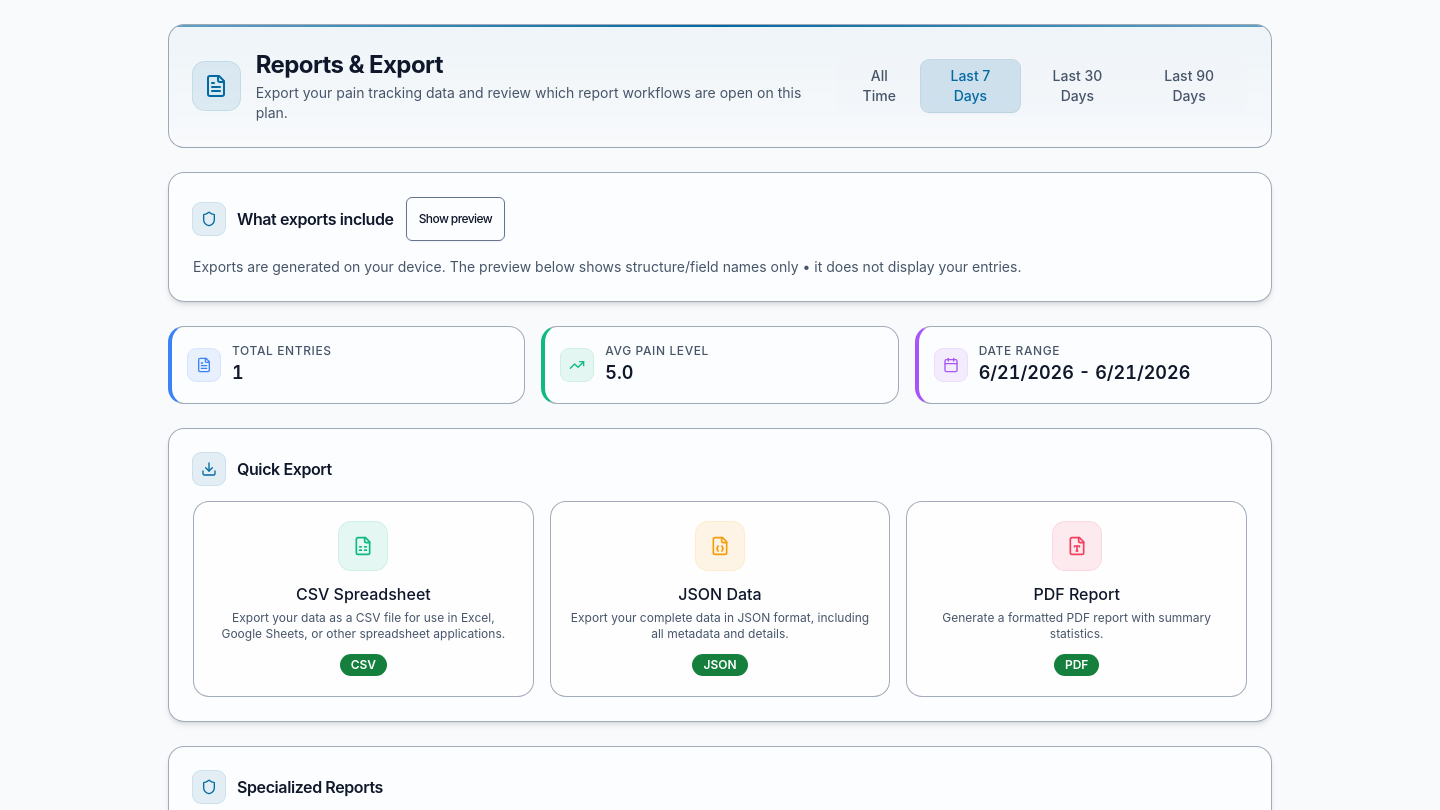
Scenario: ReportsPage › filters entries by date range
Default is last 7 days — click "All Time" to see both entries
Click the button "All Time".
click(879, 86)  # box [841,60,917,112]
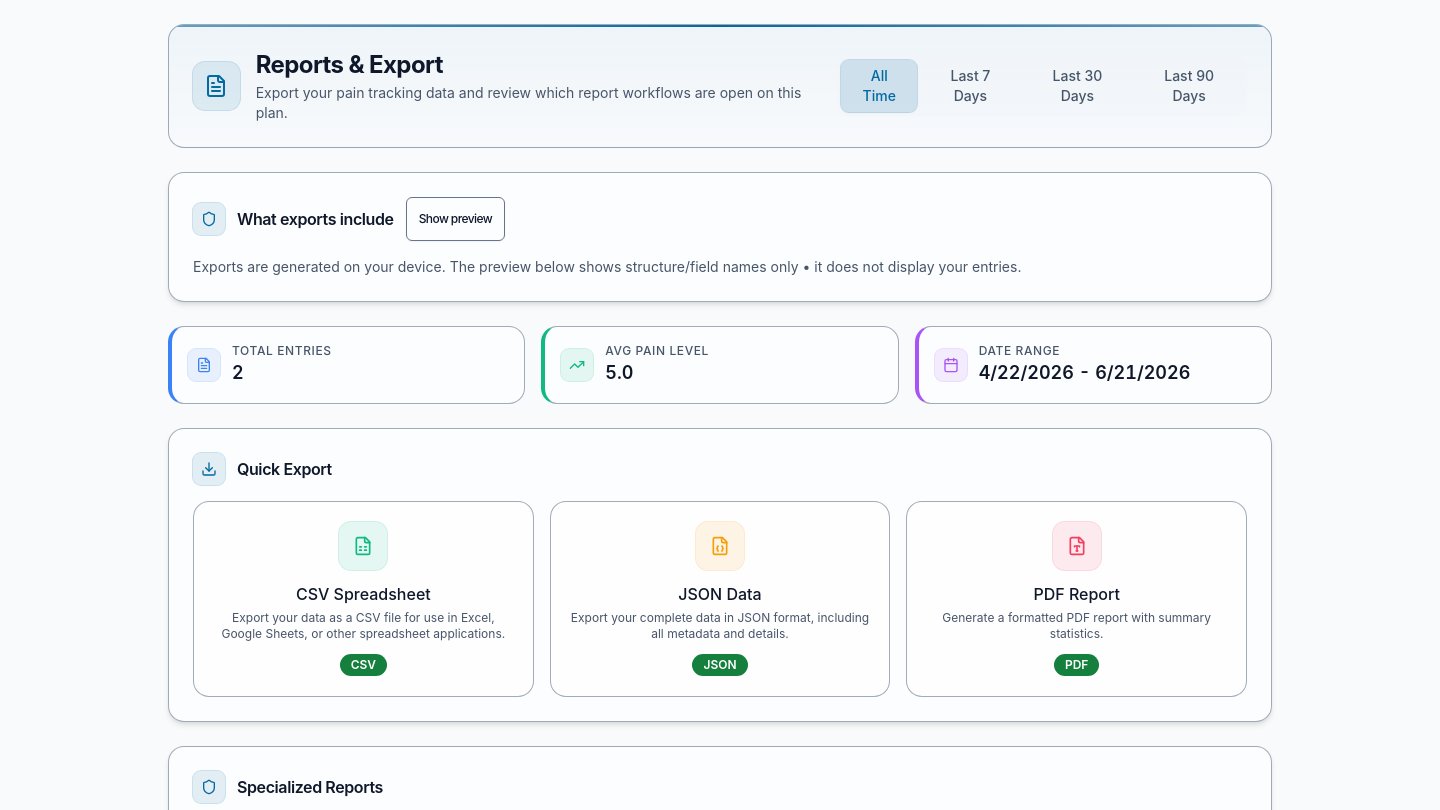
Expected: the text "2" is shown, [232,362,244,383]
Click "Last 30 Days" — only recent entry
Click the button "Last 30 Days".
click(1077, 86)  # box [1024,60,1131,112]
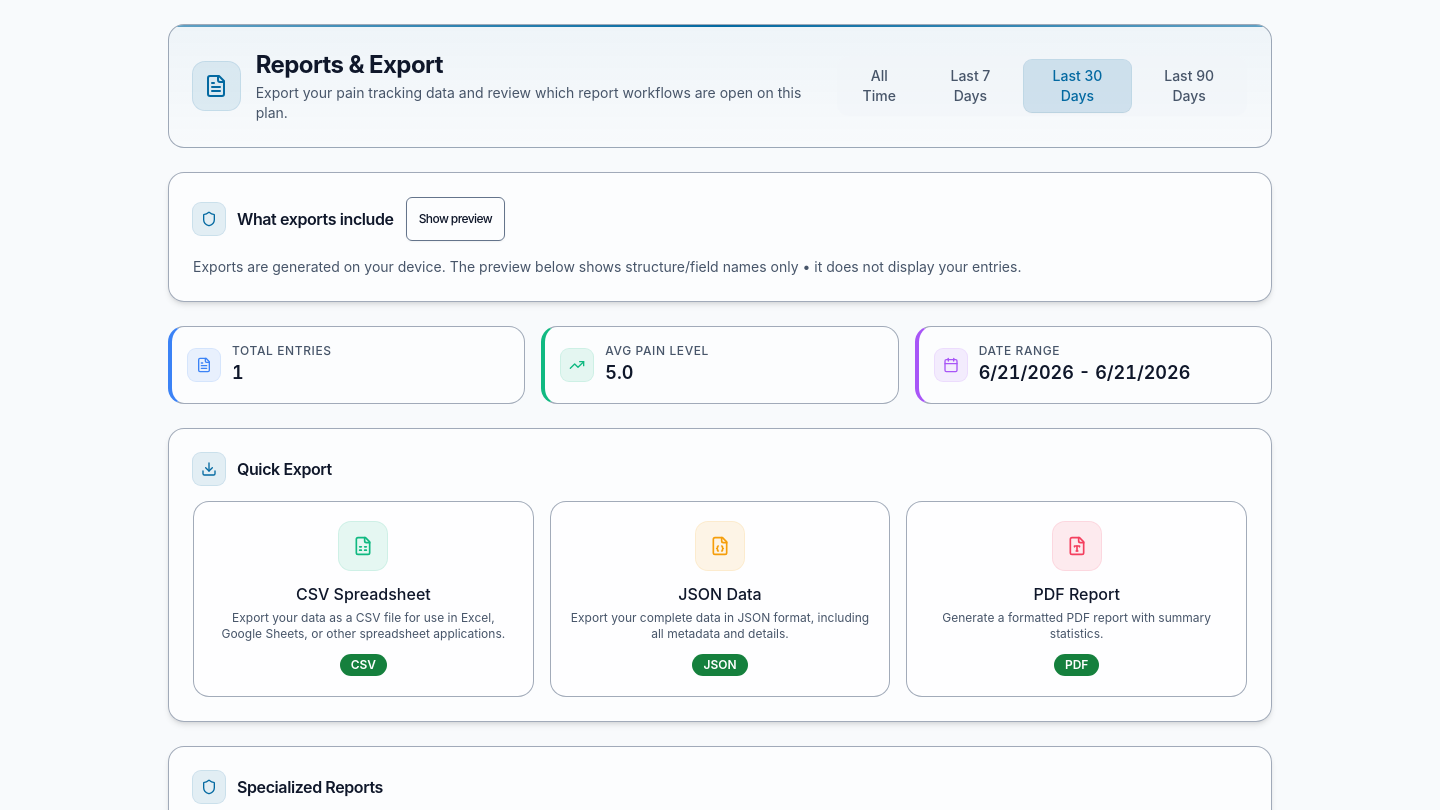
Expected: the text "1" is shown, [232,362,244,383]
